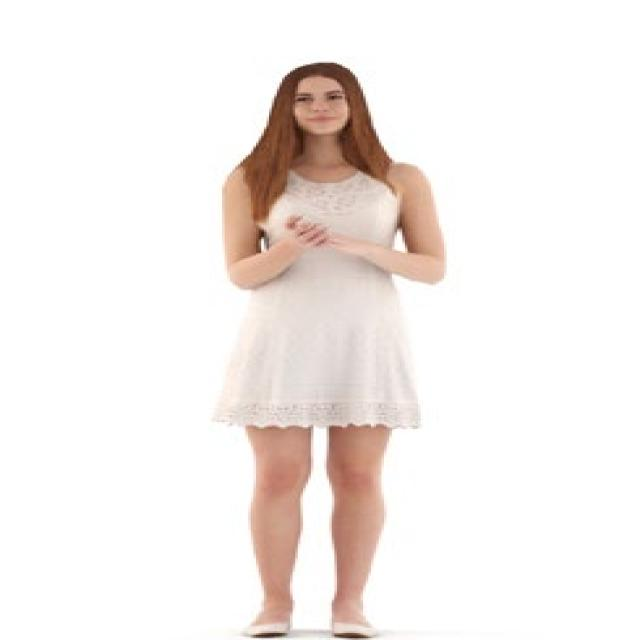standing: (203, 61, 458, 640)
